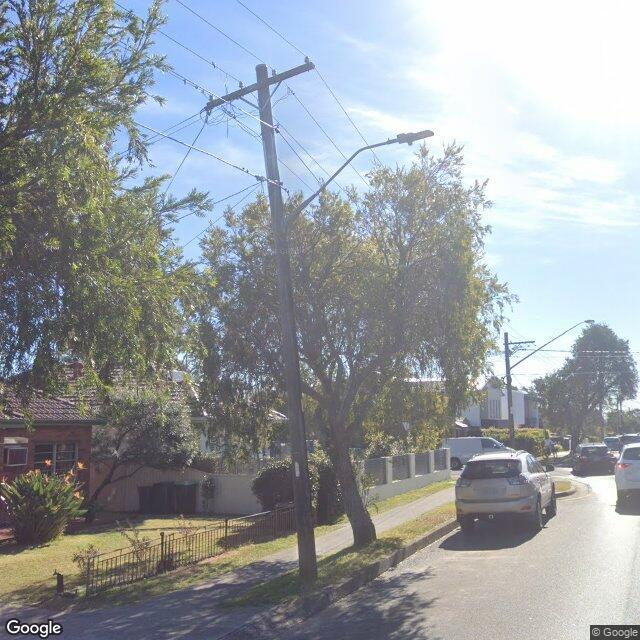crossarm: (203, 56, 315, 112), (502, 340, 536, 346)
streetlight: (282, 129, 436, 231), (510, 318, 596, 371)
timber-pole: (253, 63, 319, 592), (504, 332, 516, 449)
